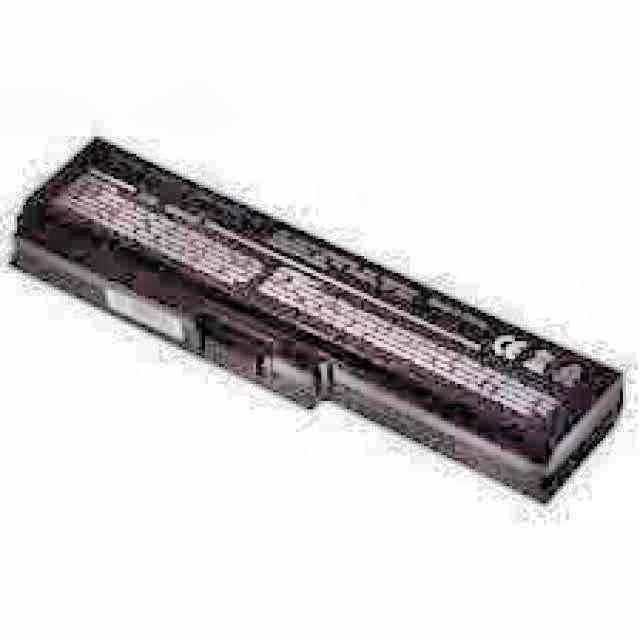battery: (14, 137, 620, 501)
